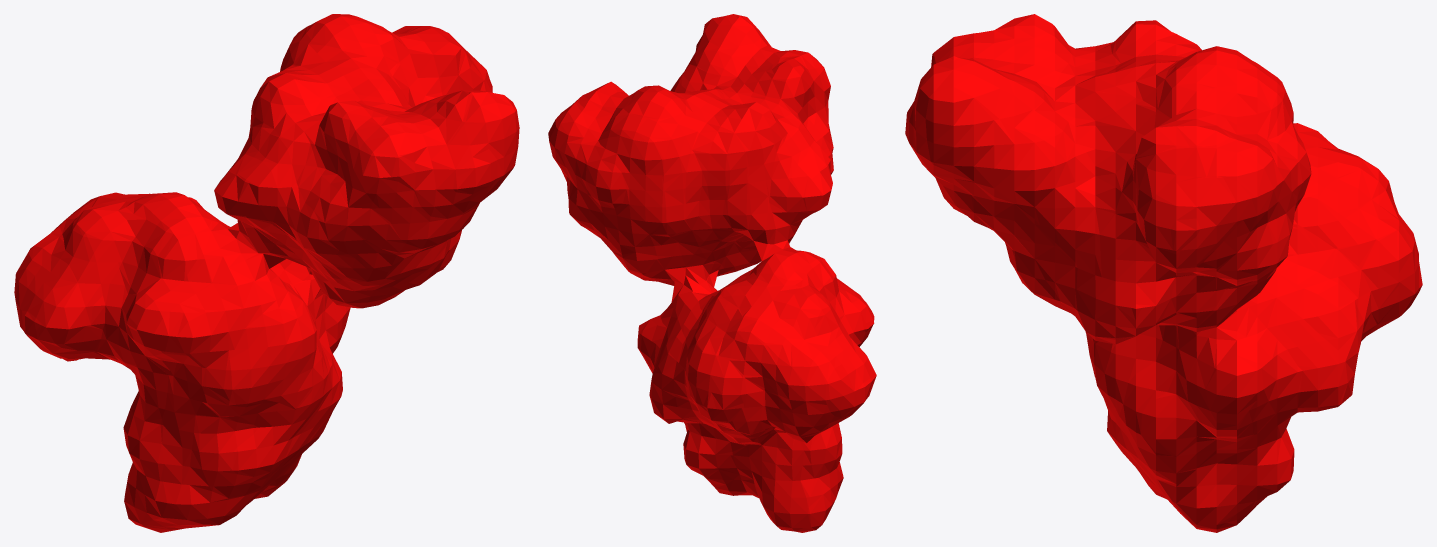
The model's file is yaaA_coarse.dae.
3 views of the same model, side by side, from view 1: azimuth 30°, elevation 25°; view 2: azimuth 150°, elevation 25°; view 3: azimuth 270°, elevation 25° (orthographic). The views are drawn at different scales.
Visible parts, largest first — view 1: yaaA; view 2: yaaA; view 3: yaaA.
Part boxes in pixels (box(x1,y1,x2,y2)): yaaA: box(14, 14, 519, 532); yaaA: box(548, 14, 876, 532); yaaA: box(905, 14, 1422, 532).
Bounding box in the file's own units: 79.85 × 87.66 × 74.52.
